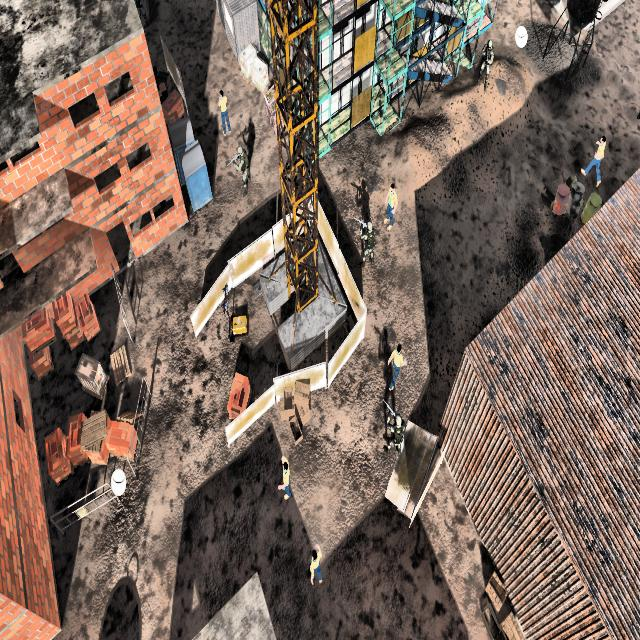bad: (372, 400, 409, 459), (474, 30, 496, 99), (230, 143, 254, 196), (355, 216, 379, 264)
good: (581, 122, 608, 196), (381, 337, 410, 398), (269, 448, 298, 503), (302, 534, 326, 596), (211, 83, 235, 140), (379, 175, 401, 235)
